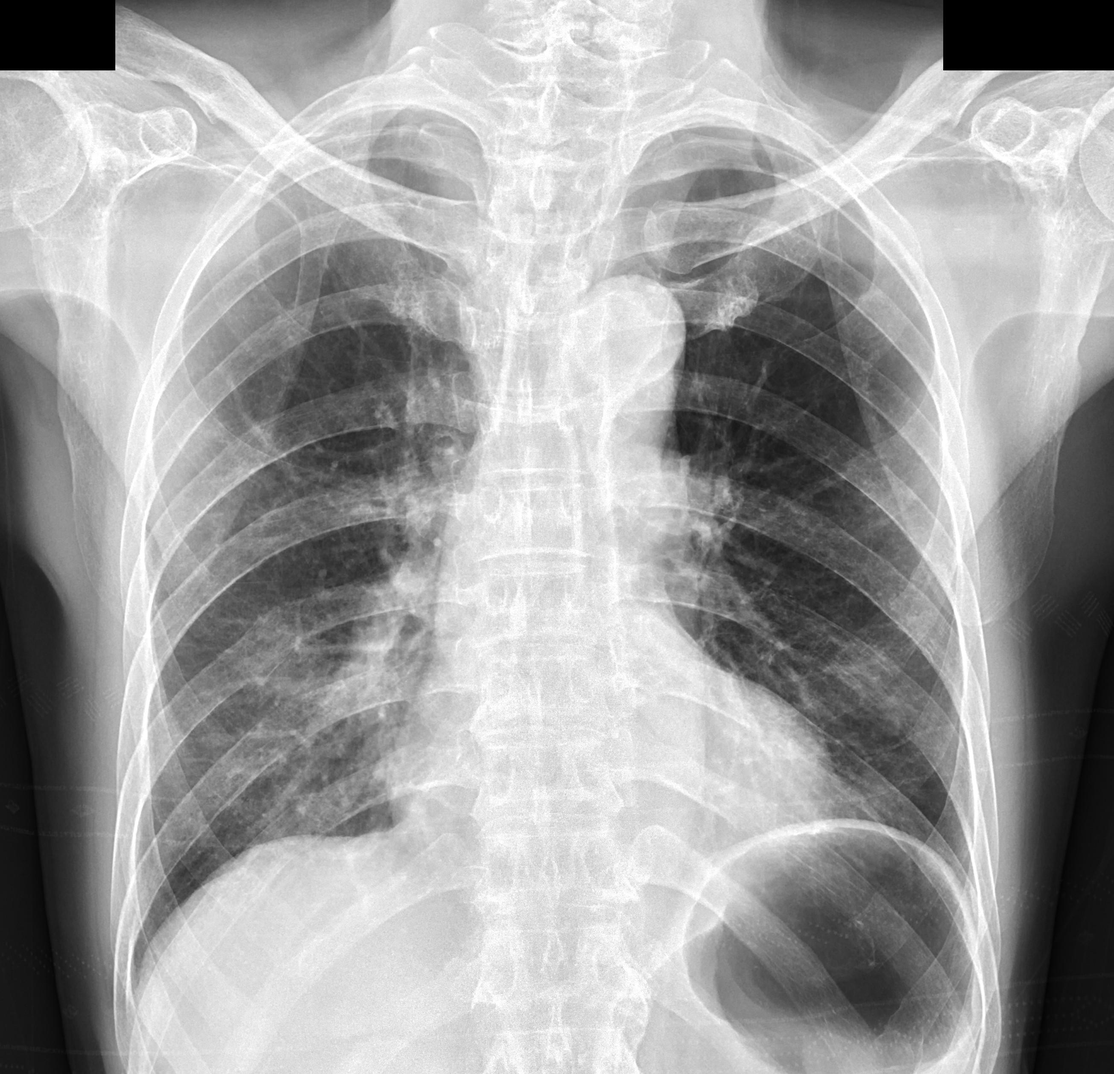Aortic enlargement: (558, 275, 680, 381)
